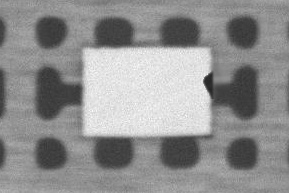DIE_BROKEN: (202, 68, 214, 99)
